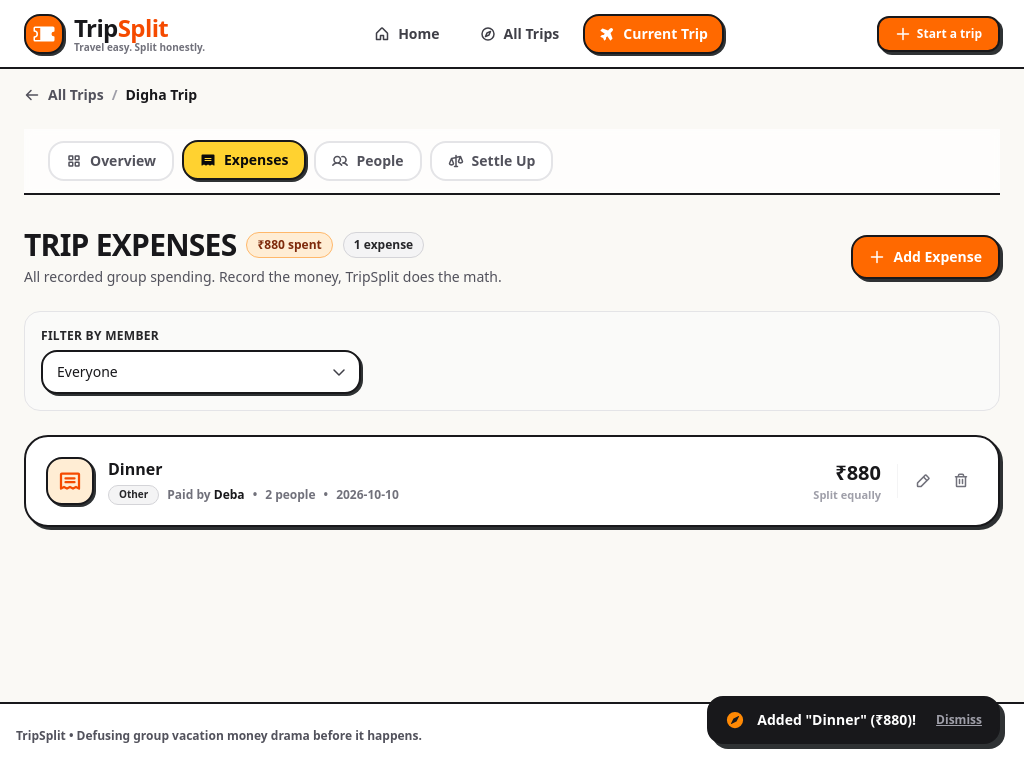
Scenario: Expense Management UI Flow › edits an existing expense while preserving its ID
Expected: the heading "Dinner" is shown, [108, 458, 162, 480]
Click edit
Click the button named "Edit Dinner".
click(923, 481)  # box [906, 464, 940, 498]
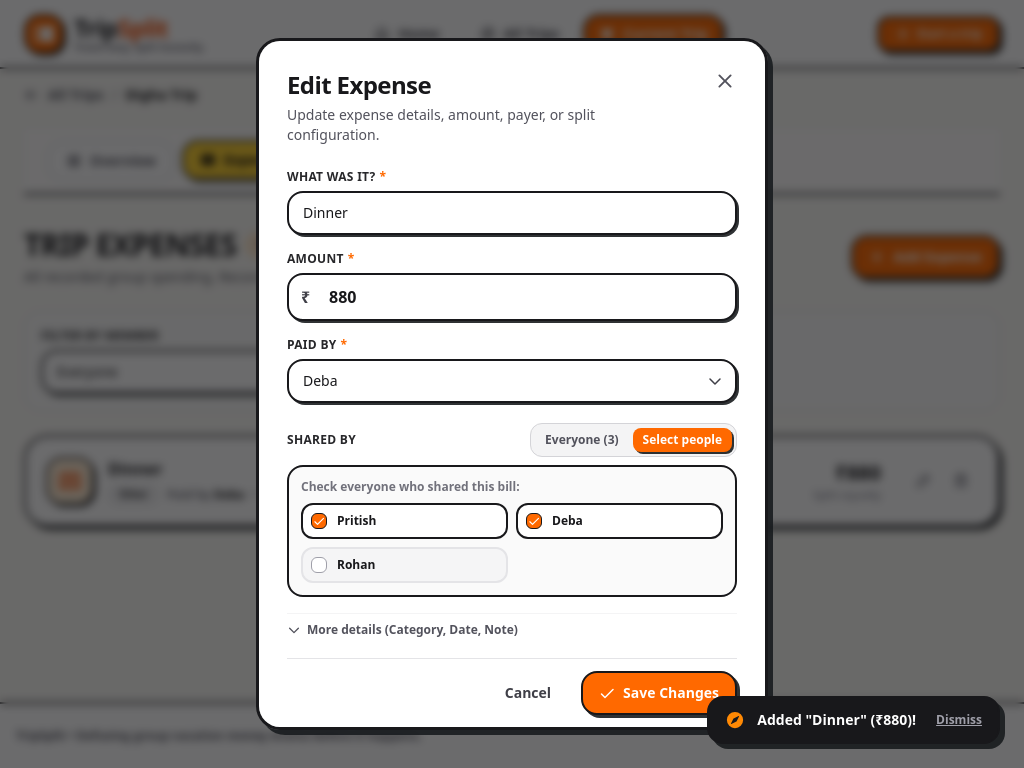
Expected: the heading "Edit Expense" is shown, [287, 68, 431, 101]
Modify description and amount
Replace the text in the field labelled "What was it? *" with "Seafood Dinner" at (512, 213), box [287, 191, 737, 235]
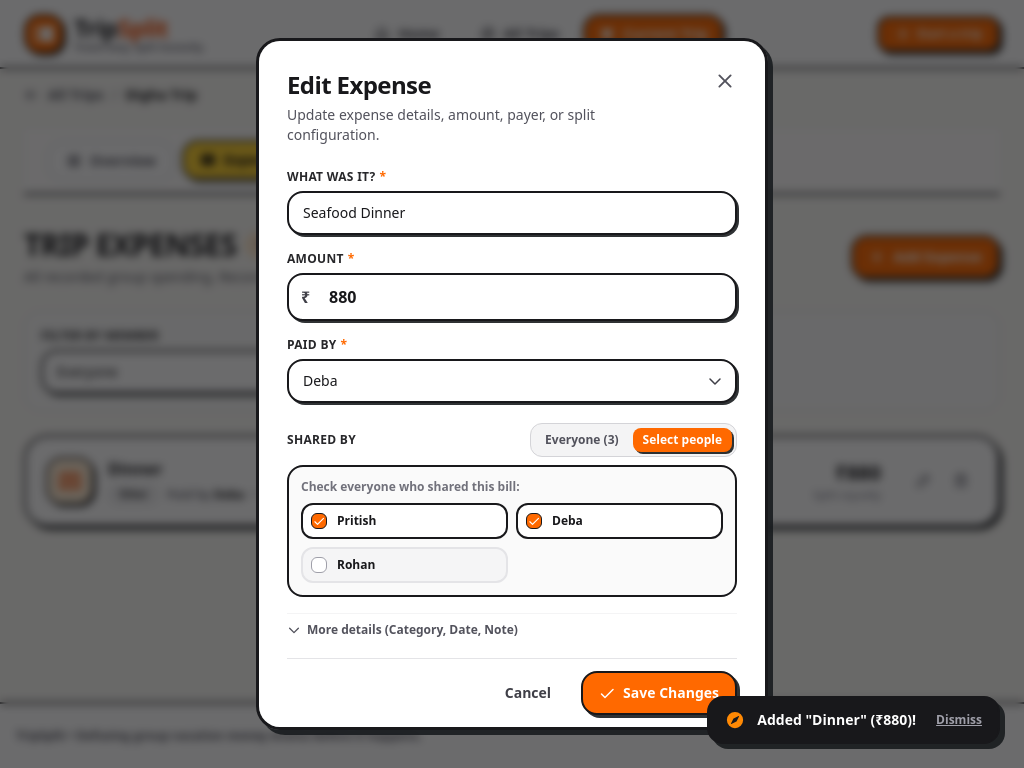
Replace the text in the number field labelled "Amount *" with "950" at (512, 297), box [287, 273, 737, 321]
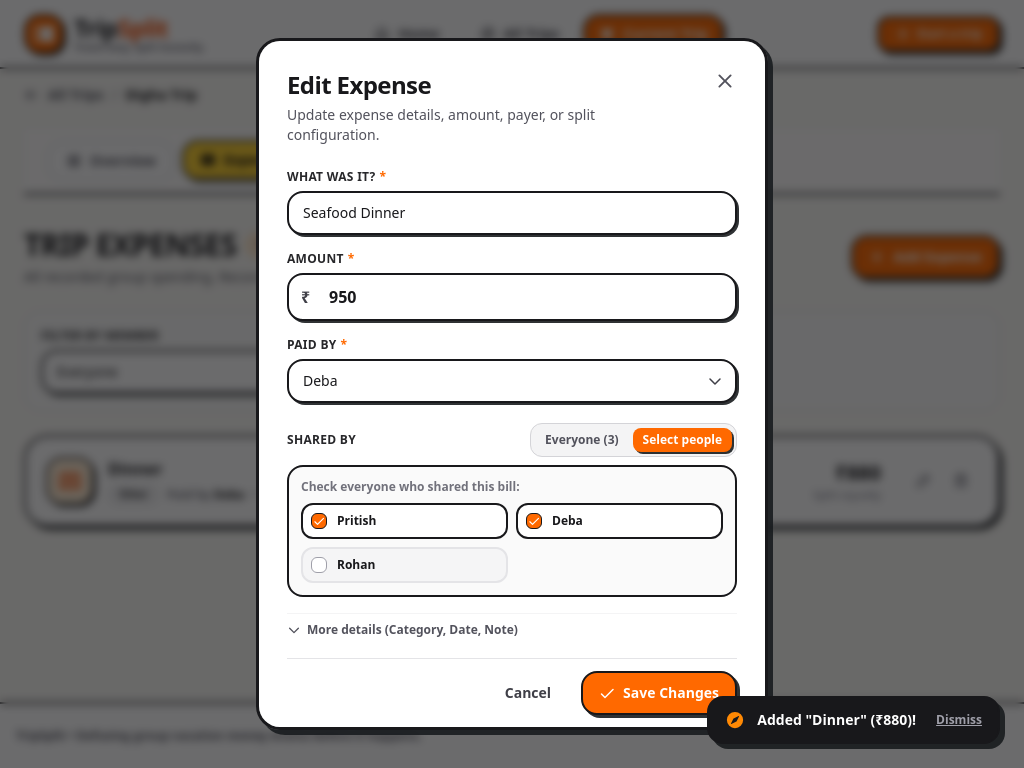
Click the button "Save Changes".
click(659, 693)  # box [581, 671, 737, 715]
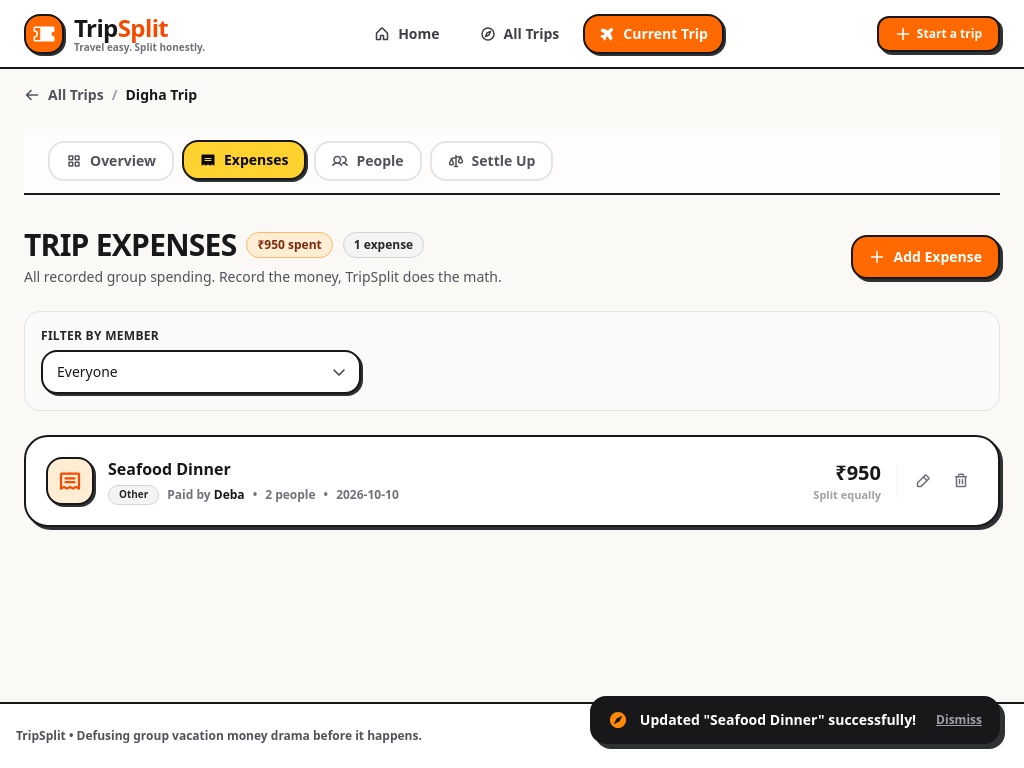
Expected: the heading "Seafood Dinner" is shown, [108, 458, 231, 480]
Expected: the text "₹950 spent" is shown, [257, 237, 322, 253]
